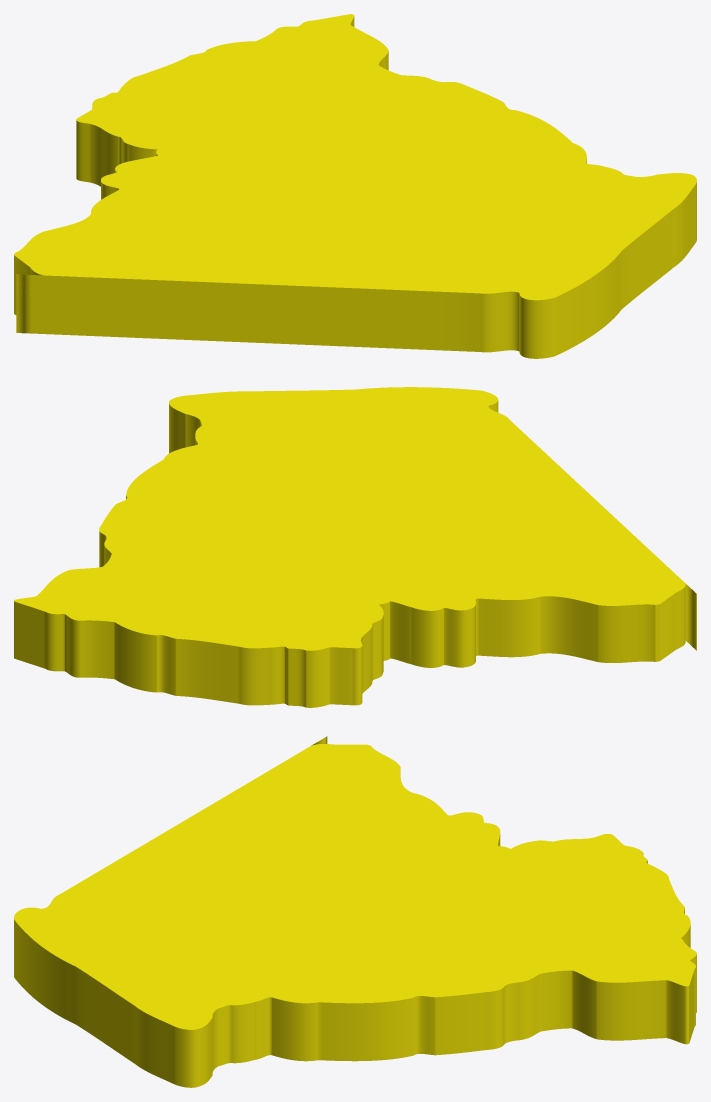
File: alger.glb
The picture shows the model from 3 angles, top to bottom: view 1: azimuth 30°, elevation 25°; view 2: azimuth 150°, elevation 25°; view 3: azimuth 270°, elevation 25°; orthographic projection. The views are drawn at different scales.
Parts seen in each view (by area): view 1: path-1; view 2: path-1; view 3: path-1.
Part boxes in pixels (x1,y1,x2,y2): path-1: (14,14,696,358); path-1: (14,387,696,707); path-1: (14,736,696,1087).
Bounding box in the file's own units: 2.18 × 0.2 × 2.14.
